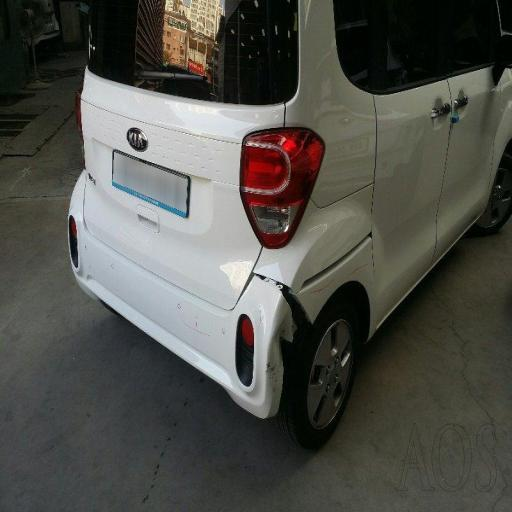broken: (223, 145, 395, 440)
scratch: (76, 218, 144, 313)
